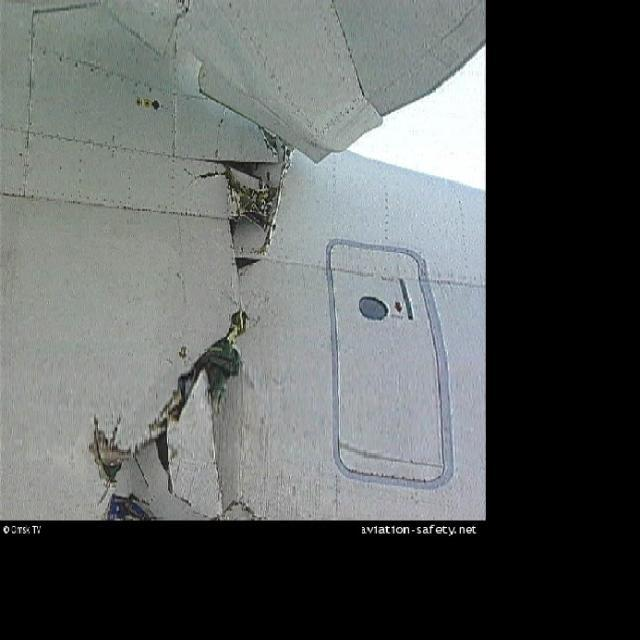crack: (82, 303, 258, 509)
